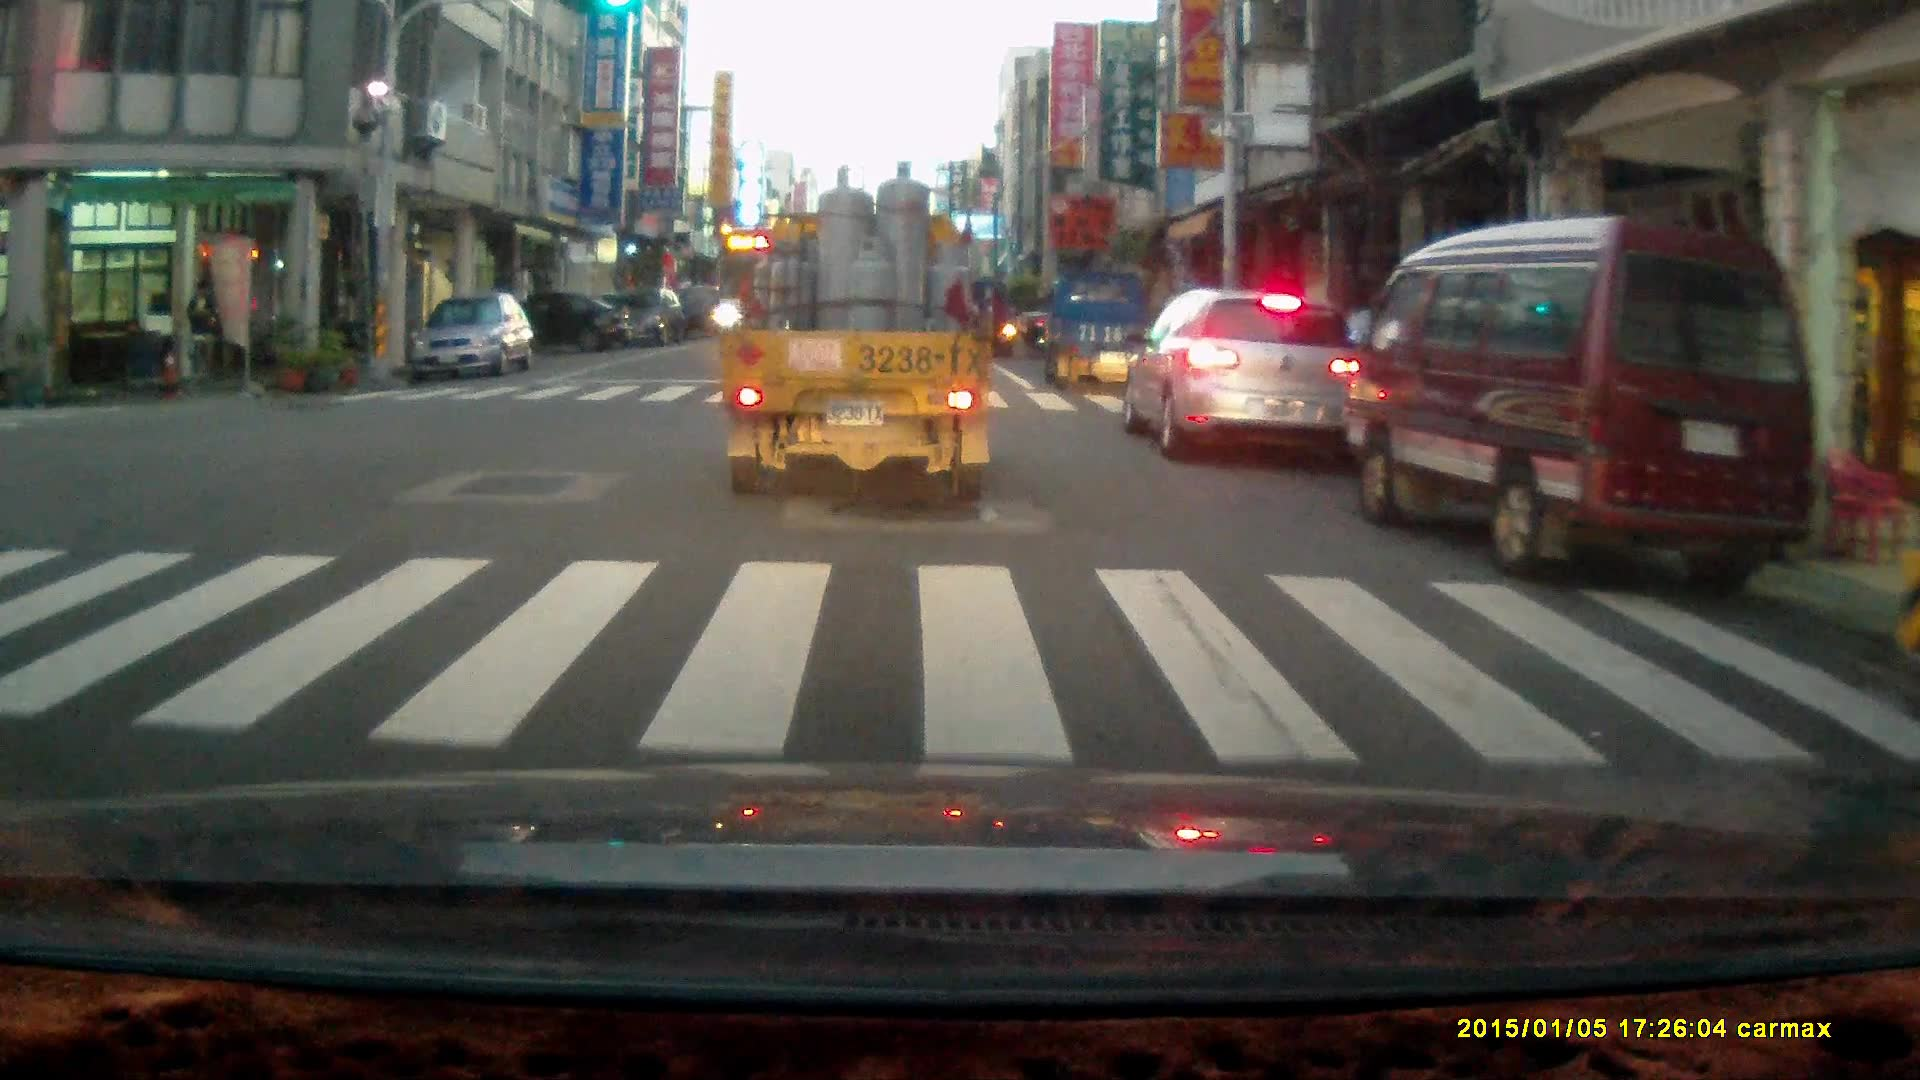pedestrian: (186, 274, 221, 392)
vehicle: (1344, 213, 1822, 600), (721, 163, 995, 507), (1122, 288, 1371, 471), (1045, 272, 1174, 405), (405, 291, 530, 384), (473, 294, 629, 361), (586, 287, 686, 349)
